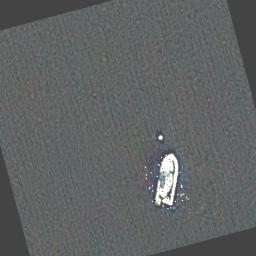boat: (140, 150, 190, 212)
